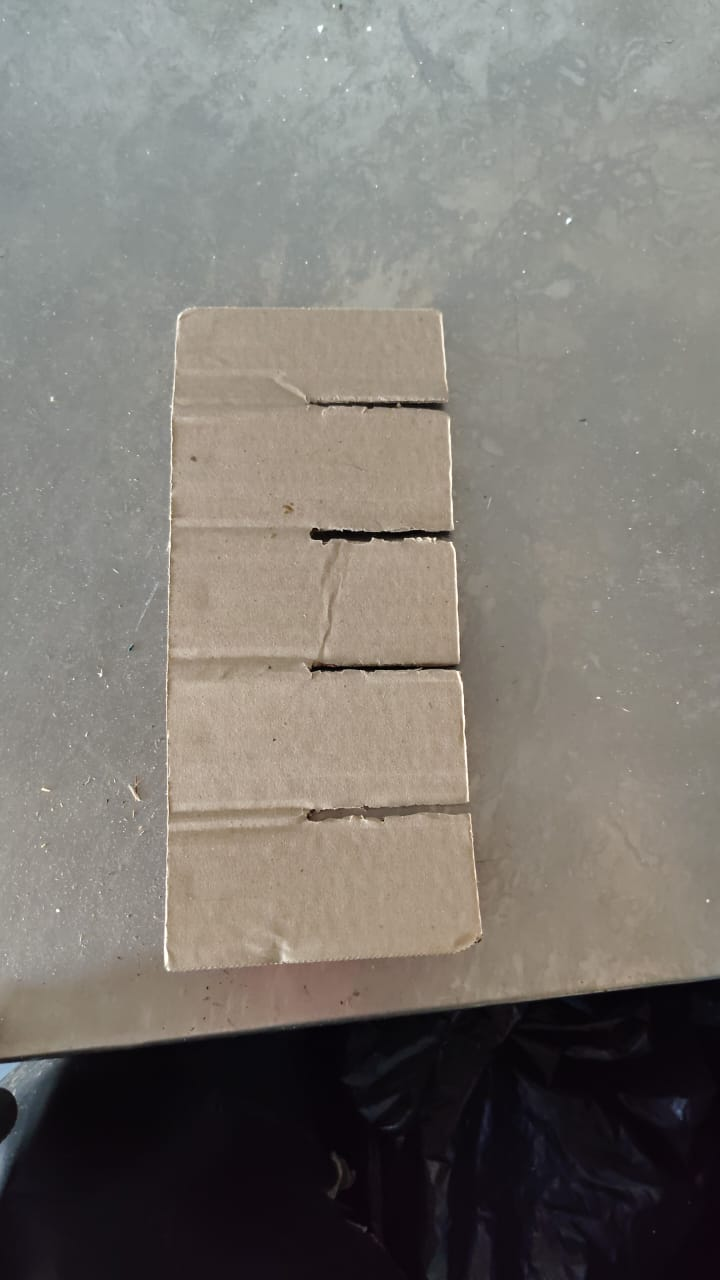Carton: (164, 305, 495, 971)
